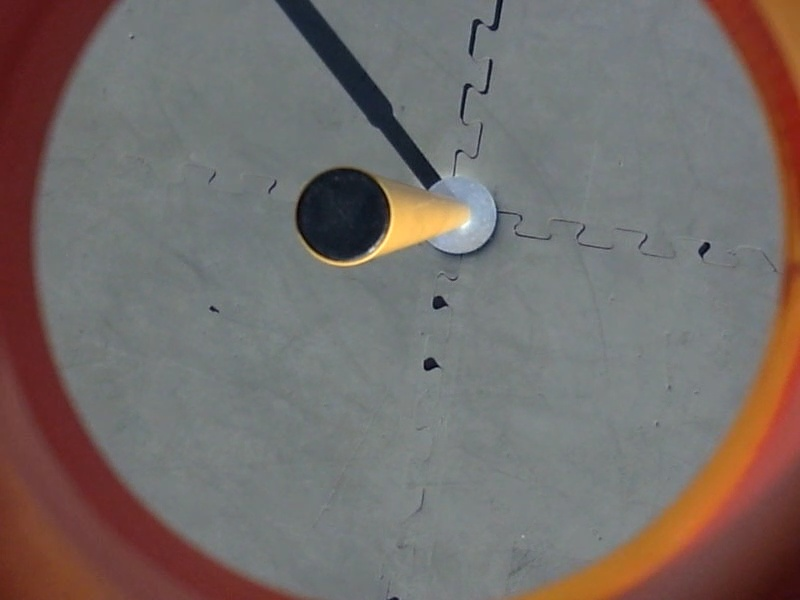tip: (291, 163, 399, 272)
